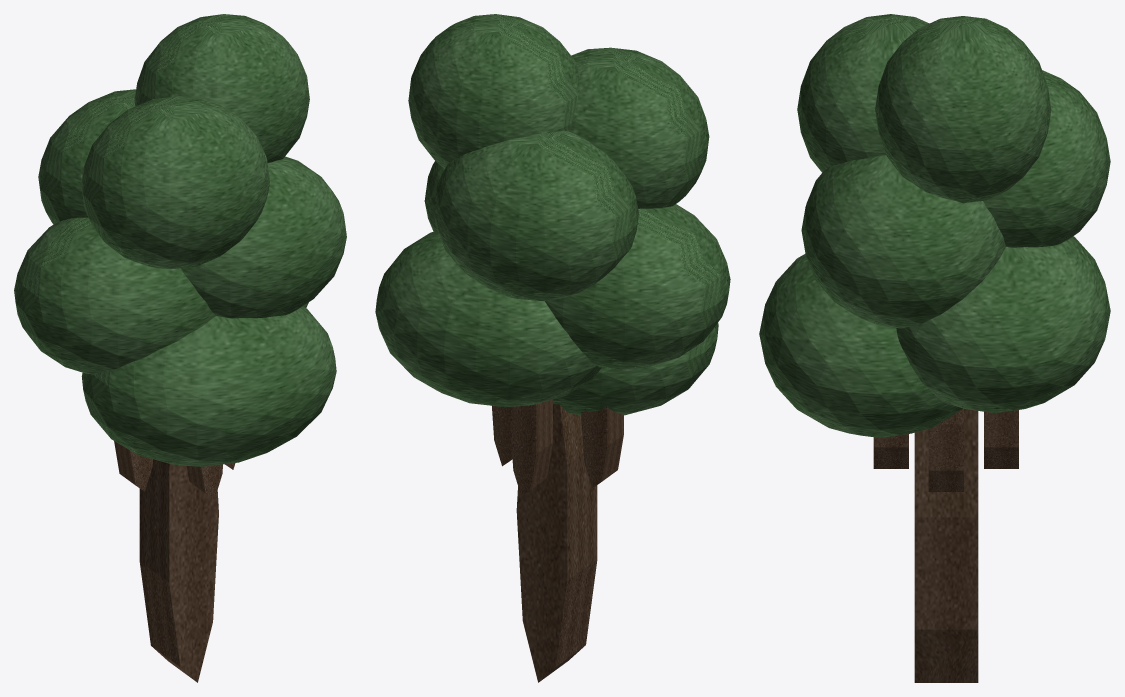
Rendered from wildlight_tree_textured.glb.
3 views of the same model, side by side, from view 1: azimuth 30°, elevation 25°; view 2: azimuth 150°, elevation 25°; view 3: azimuth 270°, elevation 25° (orthographic). The views are drawn at different scales.
Parts seen in each view (by area): view 1: leaf_cluster_0, leaf_cluster_5, leaf_cluster_2, leaf_cluster_3, leaf_cluster_6, textured_trunk, leaf_cluster_4, branch2, branch1; view 2: leaf_cluster_4, leaf_cluster_1, leaf_cluster_6, leaf_cluster_2, textured_trunk, leaf_cluster_5, leaf_cluster_0, branch3, branch2, branch0, leaf_cluster_3; view 3: leaf_cluster_6, leaf_cluster_1, leaf_cluster_3, leaf_cluster_0, textured_trunk, leaf_cluster_4, leaf_cluster_5, branch0, branch3, branch1.
Boxes of the visible parts, bbox=[...] form: leaf_cluster_0: bbox=[81, 306, 336, 466]; leaf_cluster_5: bbox=[81, 96, 269, 268]; leaf_cluster_2: bbox=[14, 217, 215, 374]; leaf_cluster_3: bbox=[181, 156, 346, 318]; leaf_cluster_6: bbox=[134, 14, 309, 162]; textured_trunk: bbox=[139, 459, 218, 682]; leaf_cluster_4: bbox=[38, 89, 135, 224]; branch2: bbox=[114, 441, 152, 491]; branch1: bbox=[186, 464, 222, 499]; leaf_cluster_4: bbox=[433, 130, 638, 300]; leaf_cluster_1: bbox=[375, 231, 601, 407]; leaf_cluster_6: bbox=[408, 14, 579, 168]; leaf_cluster_2: bbox=[545, 204, 730, 369]; textured_trunk: bbox=[516, 404, 597, 682]; leaf_cluster_5: bbox=[569, 47, 709, 208]; leaf_cluster_0: bbox=[552, 323, 718, 415]; branch3: bbox=[510, 399, 552, 496]; branch2: bbox=[581, 406, 623, 487]; branch0: bbox=[492, 405, 512, 466]; leaf_cluster_3: bbox=[424, 161, 444, 231]; leaf_cluster_6: bbox=[875, 16, 1051, 203]; leaf_cluster_1: bbox=[896, 236, 1110, 413]; leaf_cluster_3: bbox=[801, 155, 1005, 328]; leaf_cluster_0: bbox=[759, 253, 962, 437]; textured_trunk: bbox=[914, 409, 978, 682]; leaf_cluster_4: bbox=[983, 70, 1110, 247]; leaf_cluster_5: bbox=[797, 14, 929, 172]; branch0: bbox=[928, 408, 963, 491]; branch3: bbox=[984, 410, 1018, 468]; branch1: bbox=[873, 434, 908, 468].
Bounding box in the file's own units: 3.39 × 6.84 × 3.19.
Materials: 2 (2 with a texture image).
